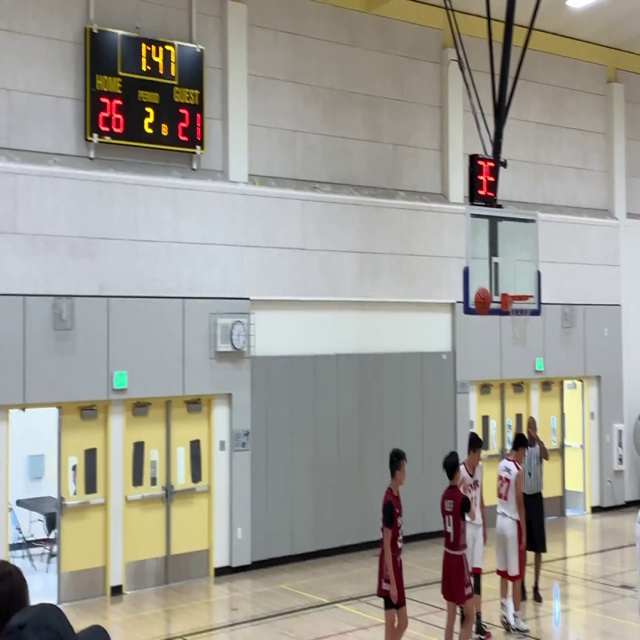Basketball: (474, 287, 491, 315)
